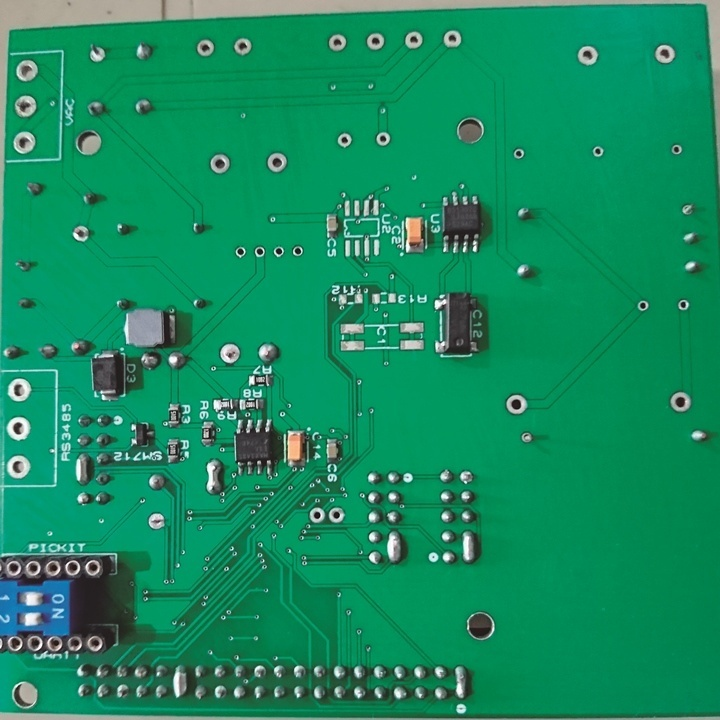F: (4, 376, 36, 405), (4, 415, 35, 443), (502, 388, 530, 418), (12, 91, 40, 120), (5, 453, 34, 481), (575, 40, 602, 69), (650, 41, 679, 68), (665, 388, 693, 415), (264, 149, 291, 177), (11, 129, 37, 158), (216, 340, 243, 367), (83, 42, 111, 68), (13, 58, 41, 84), (208, 150, 233, 177), (230, 35, 255, 60), (400, 27, 427, 50), (144, 508, 167, 534), (440, 29, 467, 51), (324, 29, 348, 53), (193, 35, 216, 60), (363, 29, 389, 51), (69, 224, 93, 246), (307, 504, 327, 526), (326, 504, 346, 526), (373, 128, 393, 149), (335, 128, 353, 151), (113, 683, 132, 702), (634, 296, 652, 316), (290, 661, 307, 682), (679, 199, 696, 220), (589, 143, 610, 160), (251, 663, 270, 681), (517, 429, 536, 447), (212, 683, 229, 703), (459, 467, 476, 487), (675, 296, 692, 315), (510, 144, 527, 162), (289, 242, 304, 260), (669, 139, 683, 157), (251, 244, 266, 260), (270, 244, 285, 260), (232, 243, 246, 259)
P: (451, 659, 473, 703), (458, 526, 481, 568), (383, 525, 406, 565), (204, 453, 224, 497), (171, 663, 190, 704), (73, 449, 93, 486)
